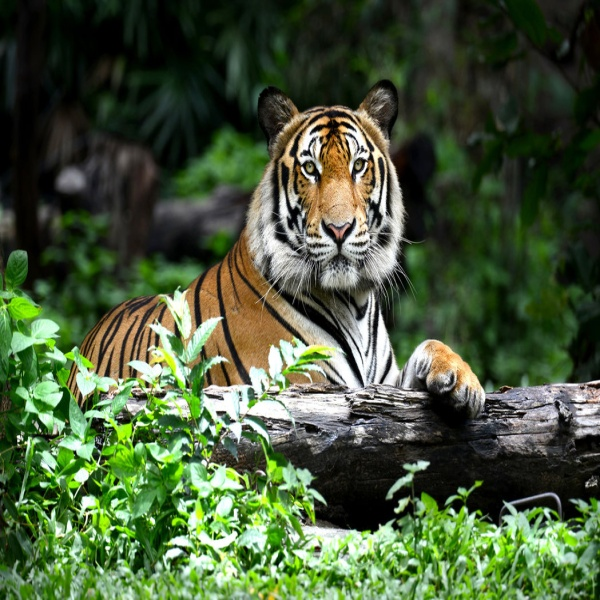Tiger: (67, 79, 488, 422)
